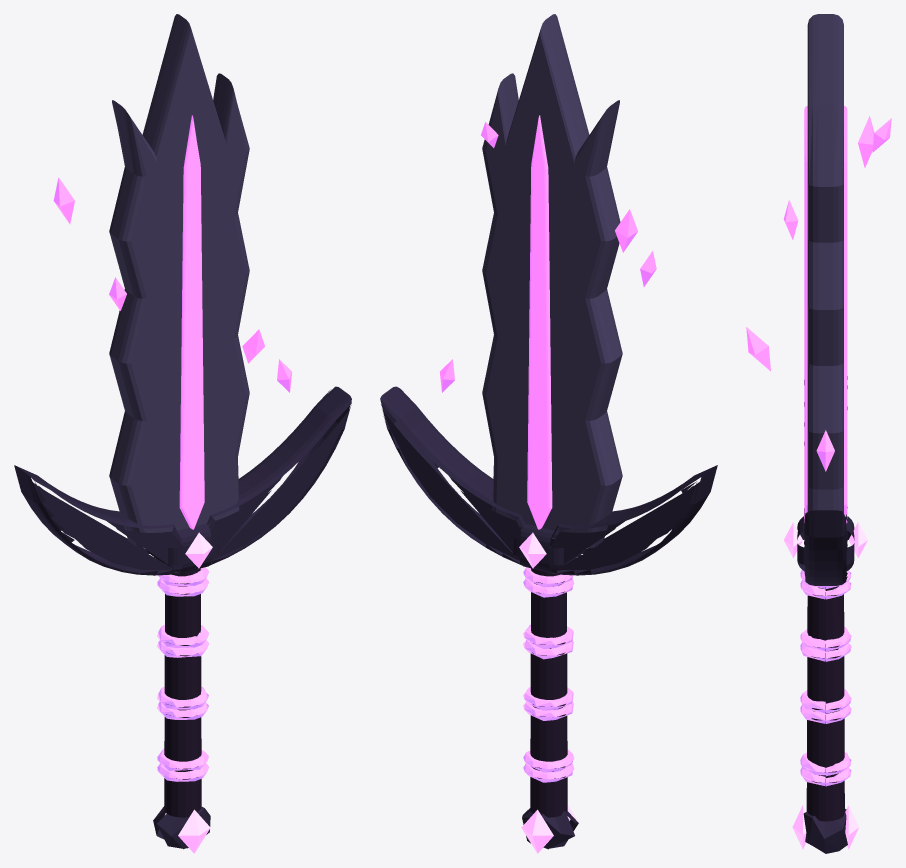
Rendered from greatsword_of_the_endless_nightmare.glb.
3 views of the same model, side by side, from view 1: azimuth 30°, elevation 25°; view 2: azimuth 150°, elevation 25°; view 3: azimuth 270°, elevation 25° (orthographic).
Visible parts, largest first — view 1: greatsword_of_the_endless_nightmare; view 2: greatsword_of_the_endless_nightmare; view 3: greatsword_of_the_endless_nightmare.
Boxes of the visible parts, box(x1,y1,x2,y2) form: greatsword_of_the_endless_nightmare: box(14, 14, 351, 853); greatsword_of_the_endless_nightmare: box(380, 14, 717, 853); greatsword_of_the_endless_nightmare: box(746, 14, 891, 853).
Bounding box in the file's own units: 1.05 × 2.6 × 0.4078.
